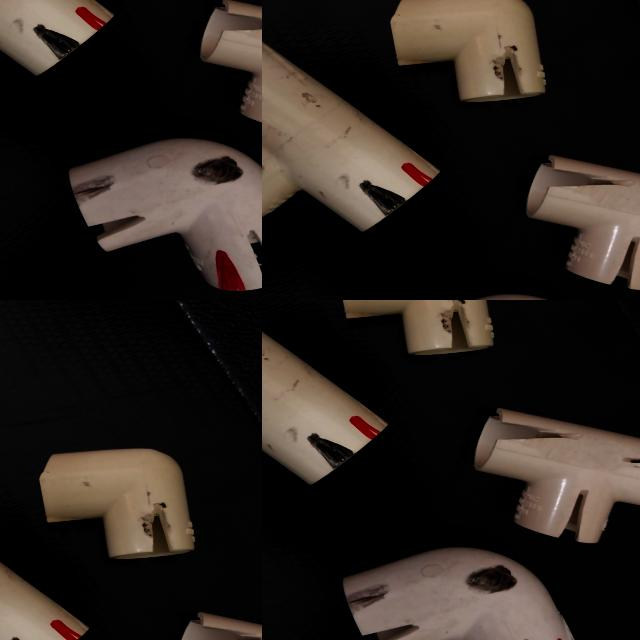Defective: (543, 460, 612, 540), (348, 603, 415, 640), (358, 614, 426, 640), (558, 493, 590, 543), (488, 422, 558, 444), (310, 436, 352, 466), (447, 304, 473, 352), (466, 567, 512, 593), (348, 586, 392, 606), (350, 417, 378, 438), (625, 454, 640, 483)
L Joint: (345, 547, 582, 640), (340, 300, 489, 354)
T Joint: (474, 401, 640, 548), (262, 300, 391, 480)
